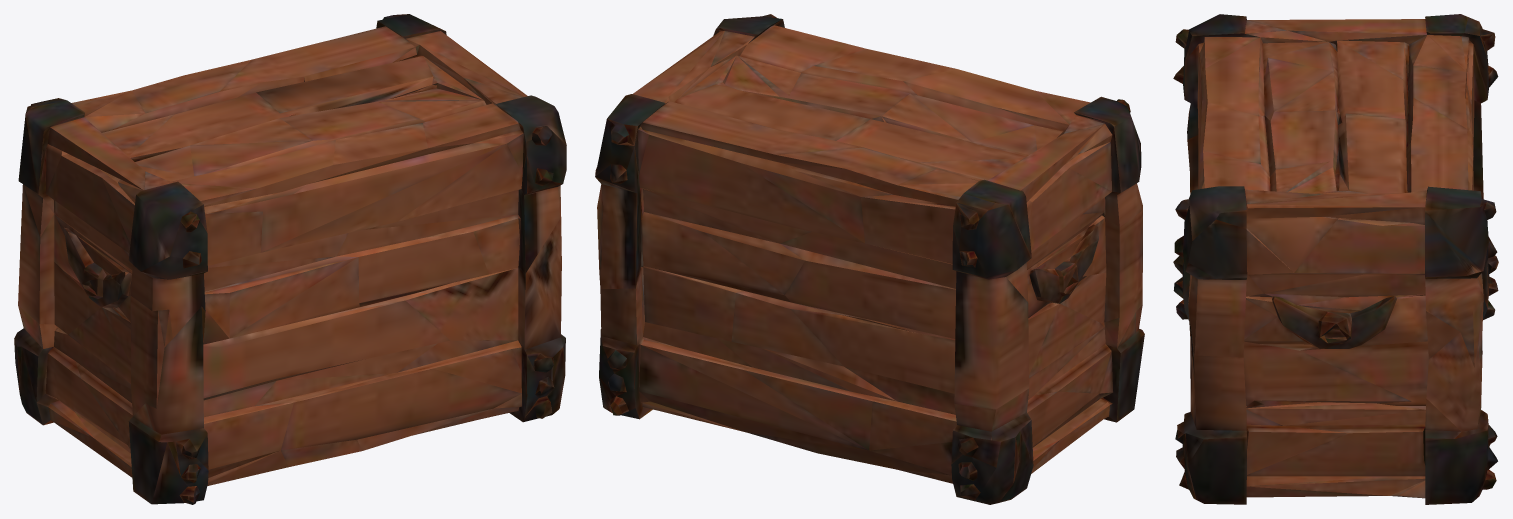
The model's file is crate.lod1.glb.
The picture shows the model from 3 angles, left to right: view 1: azimuth 30°, elevation 25°; view 2: azimuth 150°, elevation 25°; view 3: azimuth 270°, elevation 25°; orthographic projection.
Bounding box in the file's own units: 0.8058 × 0.55 × 0.5457.
1 material, 1 textured.
